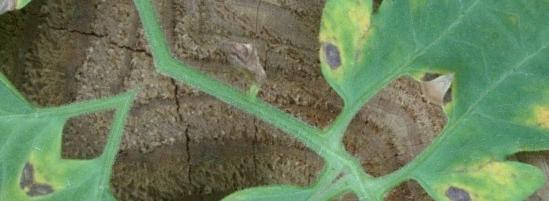Tomato leaf bacterial spot: (271, 0, 546, 148), (84, 133, 322, 201)
